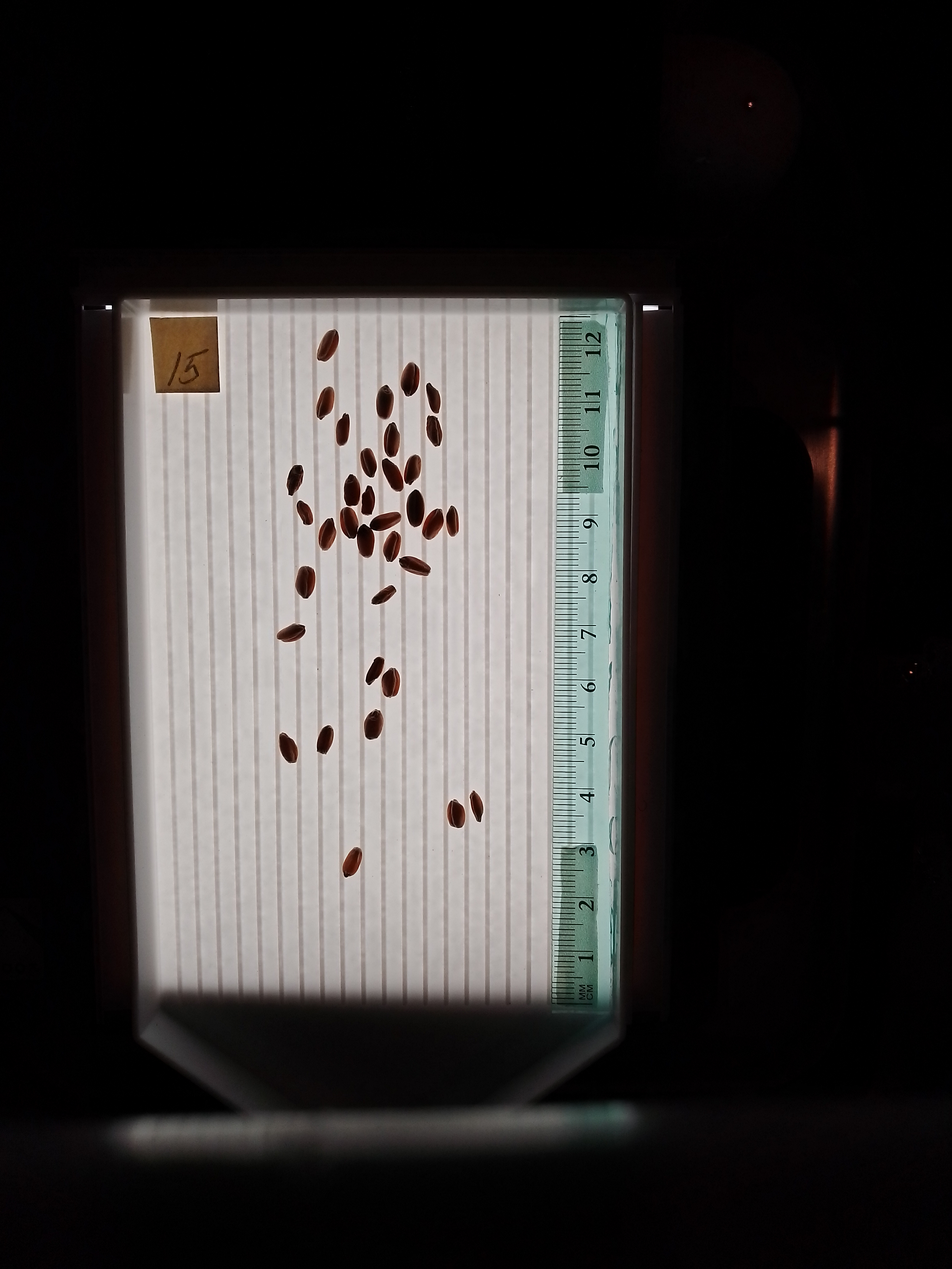seed mask: (317, 329, 339, 361), (423, 510, 444, 539), (383, 459, 402, 491), (296, 566, 315, 598), (400, 556, 430, 576), (407, 491, 424, 526), (401, 363, 419, 396), (357, 525, 375, 558), (376, 386, 394, 418), (372, 512, 400, 532), (277, 623, 305, 643), (316, 388, 334, 419), (364, 711, 383, 740), (279, 734, 298, 763), (343, 848, 362, 877), (384, 424, 400, 457), (426, 416, 443, 447), (365, 657, 384, 684), (447, 801, 466, 828), (319, 518, 335, 550), (382, 669, 400, 697), (316, 726, 334, 754), (360, 448, 377, 477), (341, 509, 358, 538), (384, 533, 401, 562), (344, 476, 360, 506), (404, 456, 421, 484), (335, 414, 350, 445), (426, 384, 441, 413), (288, 466, 303, 495), (373, 586, 395, 605), (361, 487, 375, 515), (470, 792, 483, 822), (297, 501, 313, 525), (446, 507, 459, 536)
